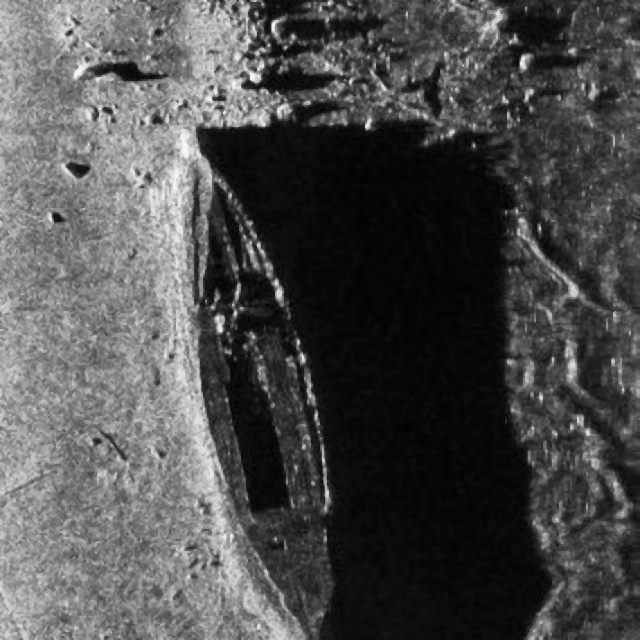Ship: (145, 100, 357, 640)
